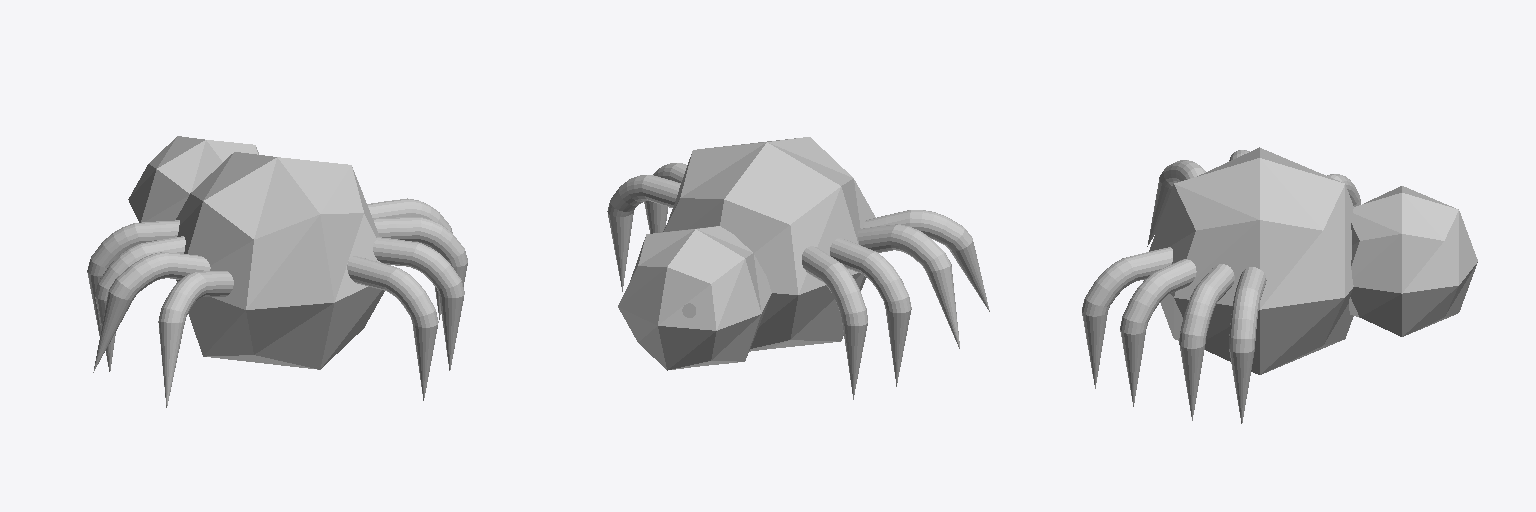
File: Spider.obj
3 renders of one model, left to right at view 1: azimuth 30°, elevation 25°; view 2: azimuth 150°, elevation 25°; view 3: azimuth 270°, elevation 25°, orthographic.
Visible parts, largest first — view 1: pCylinder24; view 2: pCylinder24; view 3: pCylinder24.
Part boxes in pixels (bbox=[...]): pCylinder24: bbox=[87, 136, 467, 407]; pCylinder24: bbox=[607, 137, 989, 399]; pCylinder24: bbox=[1082, 147, 1477, 423].
Size of the model in its own units: 1.79 by 1 by 1.73.